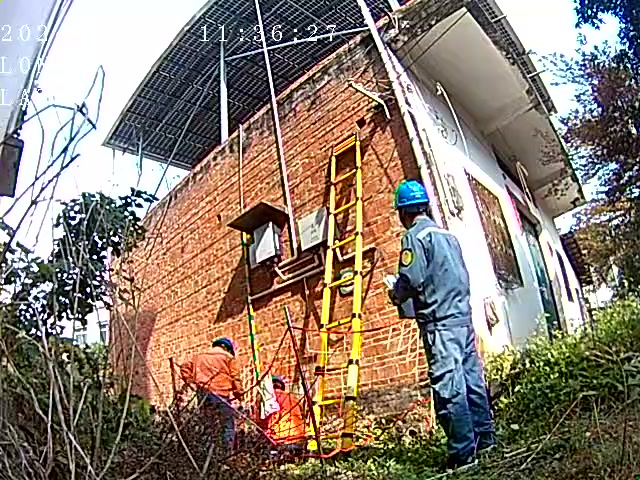halt: (397, 183, 435, 229), (213, 340, 236, 355), (272, 379, 289, 395)
